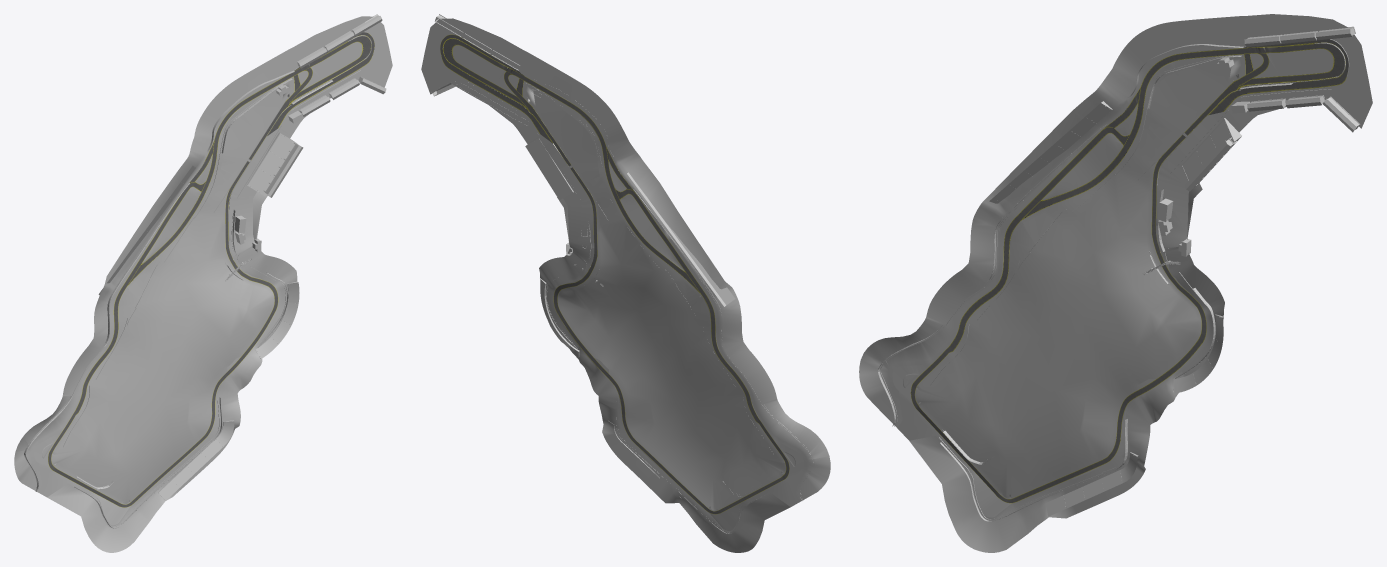
File: raceway_new.obj
The picture shows the model from 3 angles, left to right: view 1: azimuth 30°, elevation 25°; view 2: azimuth 150°, elevation 25°; view 3: azimuth 330°, elevation 25°; orthographic projection. The views are drawn at different scales.
Parts seen in each view (by area): view 1: Raceway; view 2: Raceway; view 3: Raceway.
Part boxes in pixels (box(x1,y1,x2,y2)): Raceway: box(14, 14, 392, 552); Raceway: box(421, 14, 830, 552); Raceway: box(859, 14, 1372, 552).
Size of the model in its own units: 41874 by 47892 by 2627.
